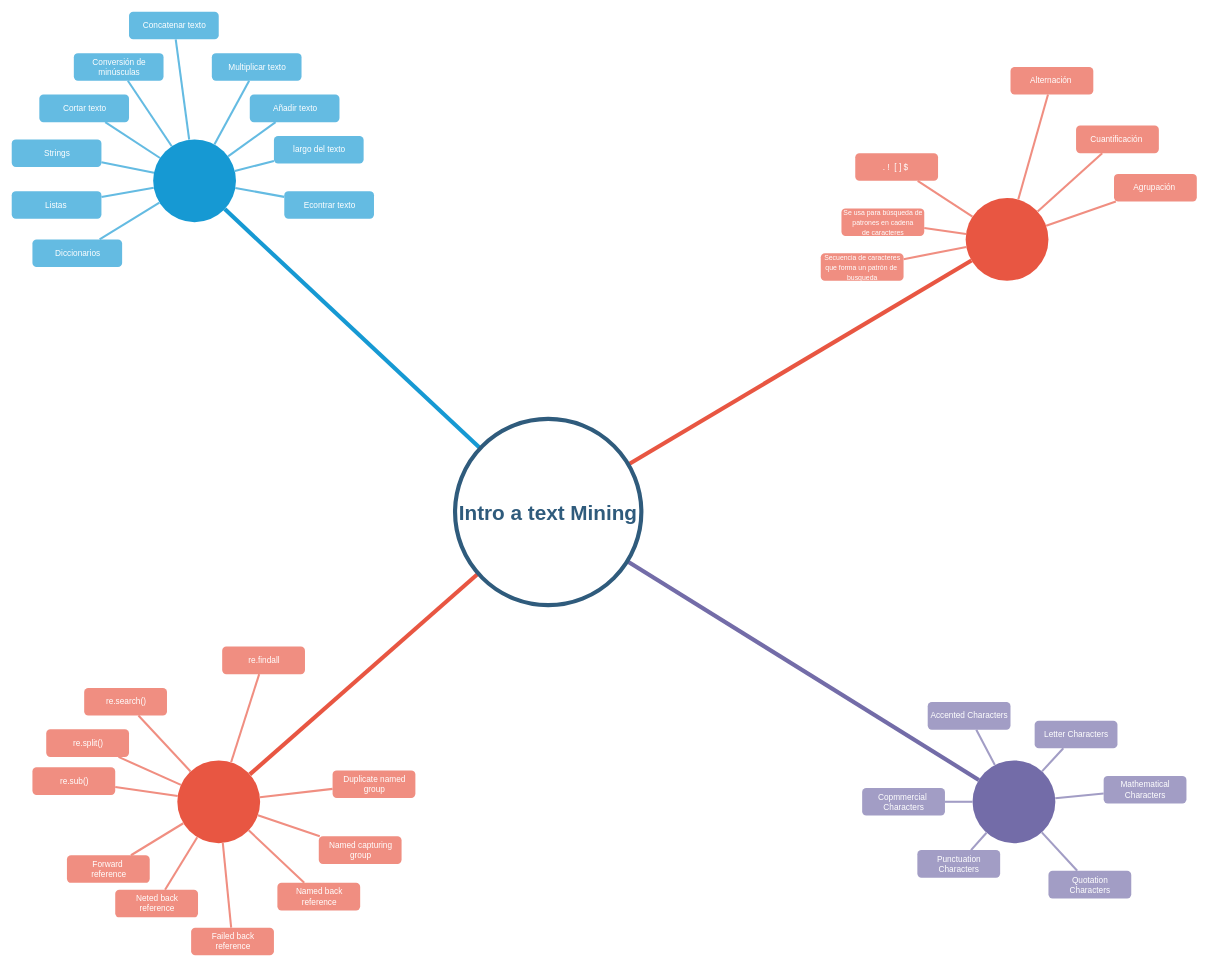
This 1209x967 diagram has some shape labels left out. The centre of each missing label's shape, as x and y in pixels:
Expre. Reg con pandas y Named Groups: point (218, 801)
Expresiones Regulares: point (1006, 239)
Manejando non-ASCCI characteres: point (1013, 801)
Manejando texto en Python: point (194, 180)
